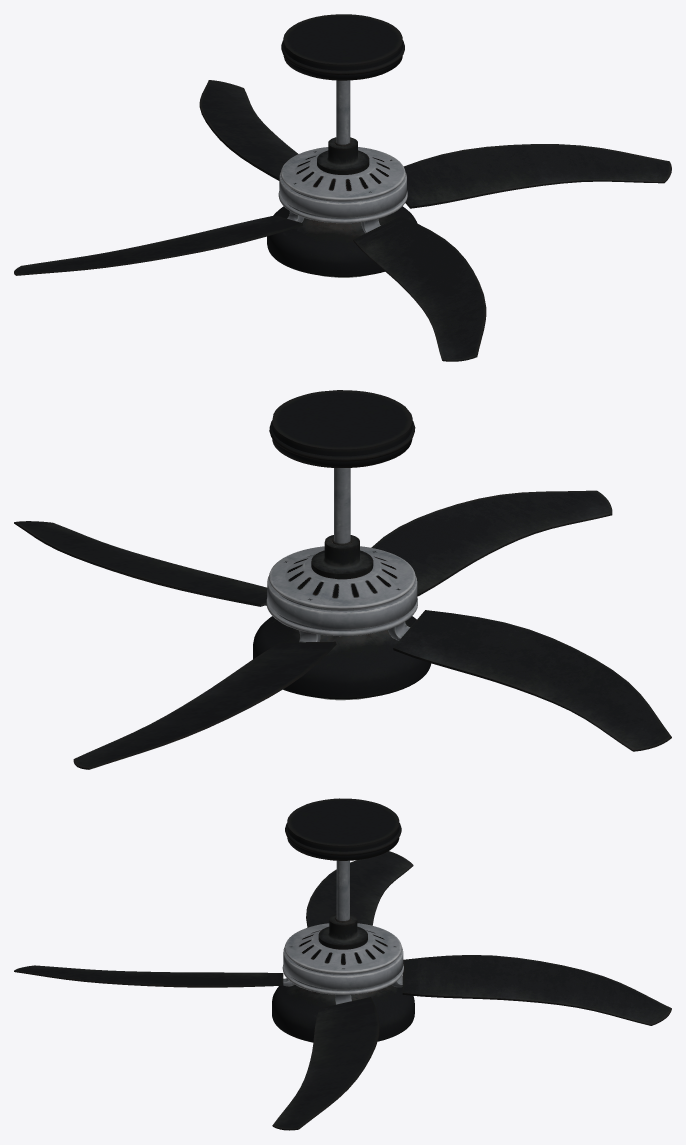
Rendered from ceiling_fan.glb.
3 renders of one model, top to bottom at view 1: azimuth 30°, elevation 25°; view 2: azimuth 150°, elevation 25°; view 3: azimuth 270°, elevation 25°, orthographic. The views are drawn at different scales.
Parts seen in each view (by area): view 1: ceiling_fan_blades, ceiling_fan; view 2: ceiling_fan_blades, ceiling_fan; view 3: ceiling_fan_blades, ceiling_fan.
Boxes of the visible parts, box(x1,y1,x2,y2) form: ceiling_fan_blades: box(14, 80, 671, 361); ceiling_fan: box(267, 14, 417, 277); ceiling_fan_blades: box(14, 490, 671, 769); ceiling_fan: box(253, 390, 431, 700); ceiling_fan_blades: box(14, 851, 671, 1130); ceiling_fan: box(272, 798, 414, 1042).
Bounding box in the file's own units: 1.2 × 0.4235 × 1.2.
1 material, 1 textured.
